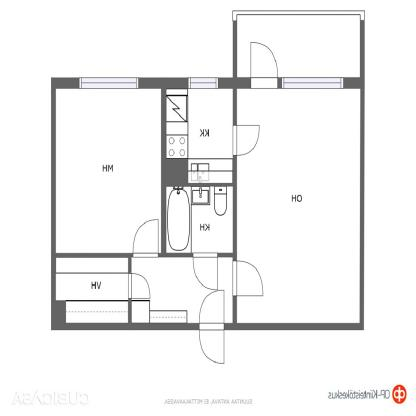door: (198, 286, 229, 368), (248, 36, 279, 90), (129, 215, 161, 262), (231, 261, 267, 301), (192, 253, 223, 294), (233, 122, 260, 156), (128, 271, 152, 298)
window: (79, 74, 138, 89), (281, 76, 344, 90), (189, 76, 217, 90)
zone: (238, 90, 360, 324), (56, 88, 162, 255), (238, 12, 360, 77), (133, 255, 233, 324), (165, 90, 233, 183), (164, 183, 234, 253), (53, 257, 128, 322)
